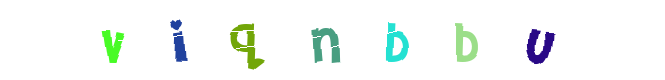B: (355, 0, 435, 80), (359, 0, 439, 80)
I: (206, 0, 286, 80)
N: (292, 0, 372, 80)
Q: (289, 0, 369, 80)
U: (362, 0, 442, 80)
V: (72, 0, 152, 80)
